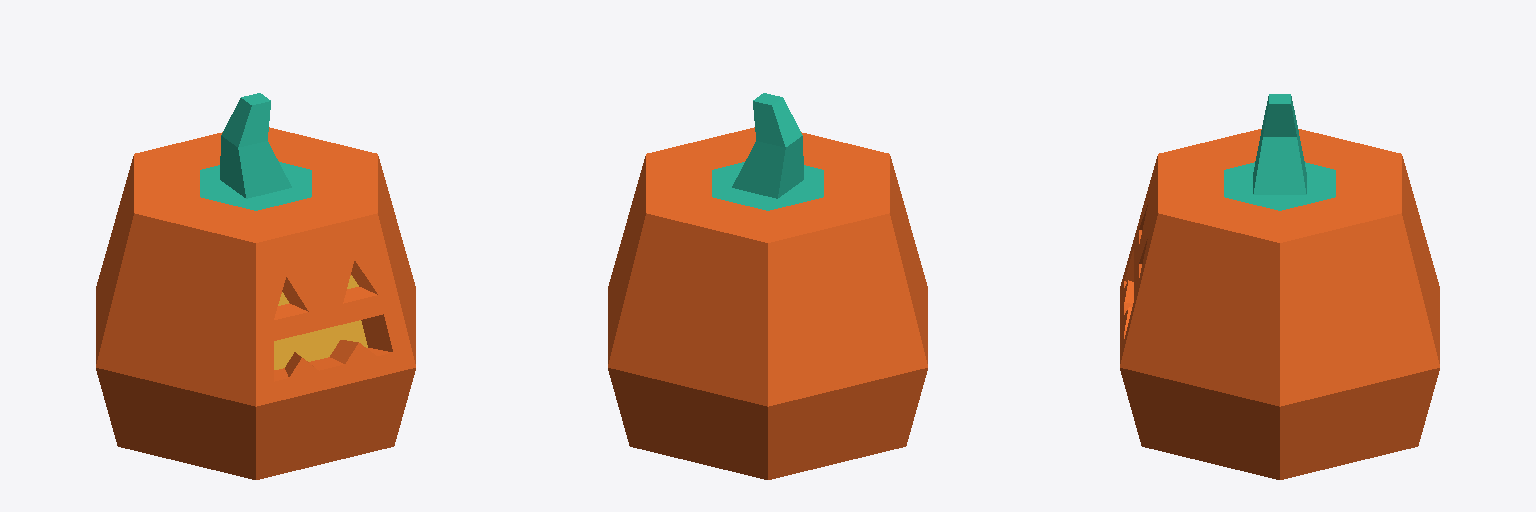
The model's file is pumpkinTallCarved.obj.
3 renders of one model, left to right at view 1: azimuth 30°, elevation 25°; view 2: azimuth 150°, elevation 25°; view 3: azimuth 270°, elevation 25°, orthographic.
Parts seen in each view (by area): view 1: pumpkinTallCarved; view 2: pumpkinTallCarved; view 3: pumpkinTallCarved.
Boxes of the visible parts, x1=… form: pumpkinTallCarved: x1=96, y1=93, x2=415, y2=479; pumpkinTallCarved: x1=608, y1=93, x2=927, y2=479; pumpkinTallCarved: x1=1120, y1=94, x2=1439, y2=479.
Bounding box in the file's own units: 0.2784 × 0.26 × 0.2411.